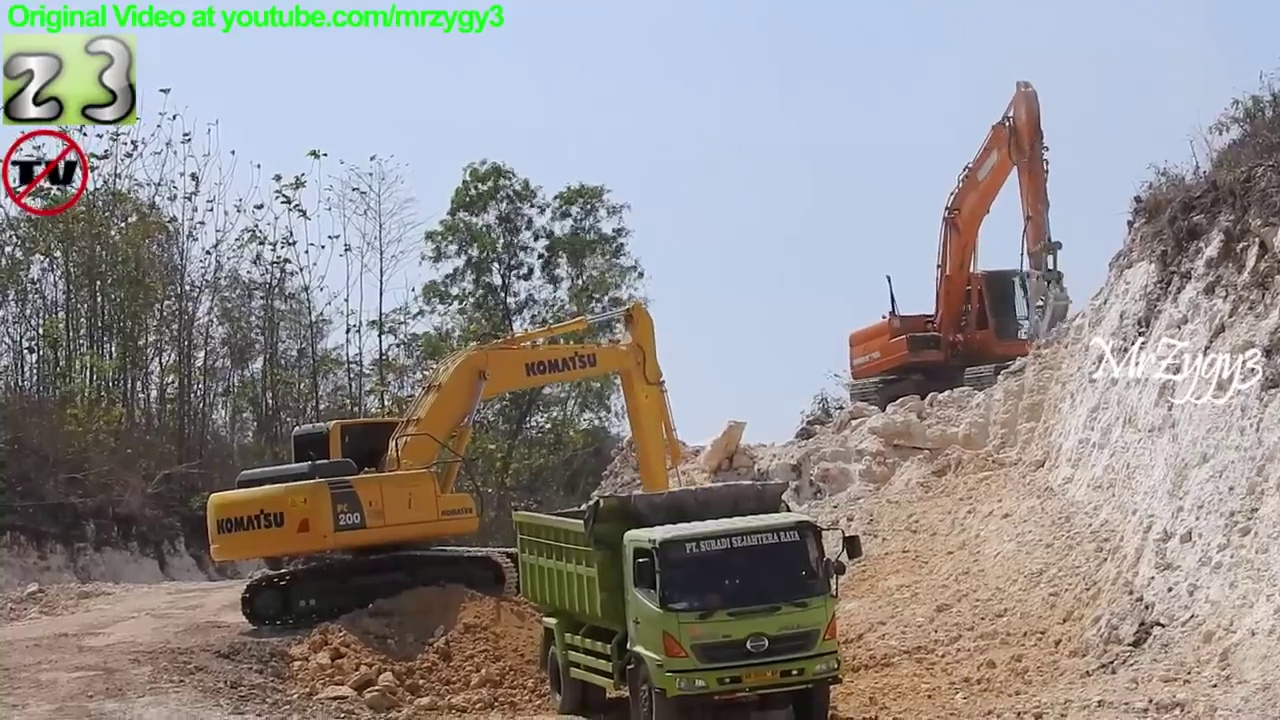excavator: (203, 296, 715, 638), (844, 75, 1077, 421)
truck: (513, 478, 868, 720)
